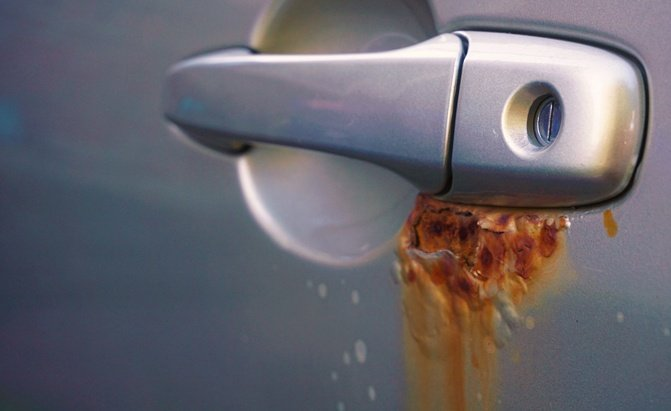rust: (405, 199, 558, 283)
